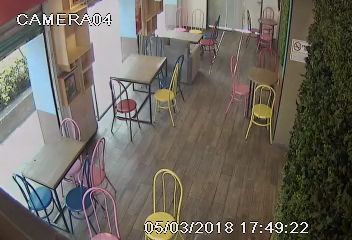libre: (2, 120, 112, 228), (93, 47, 189, 122), (228, 40, 283, 126), (151, 8, 225, 57), (242, 7, 295, 57)
